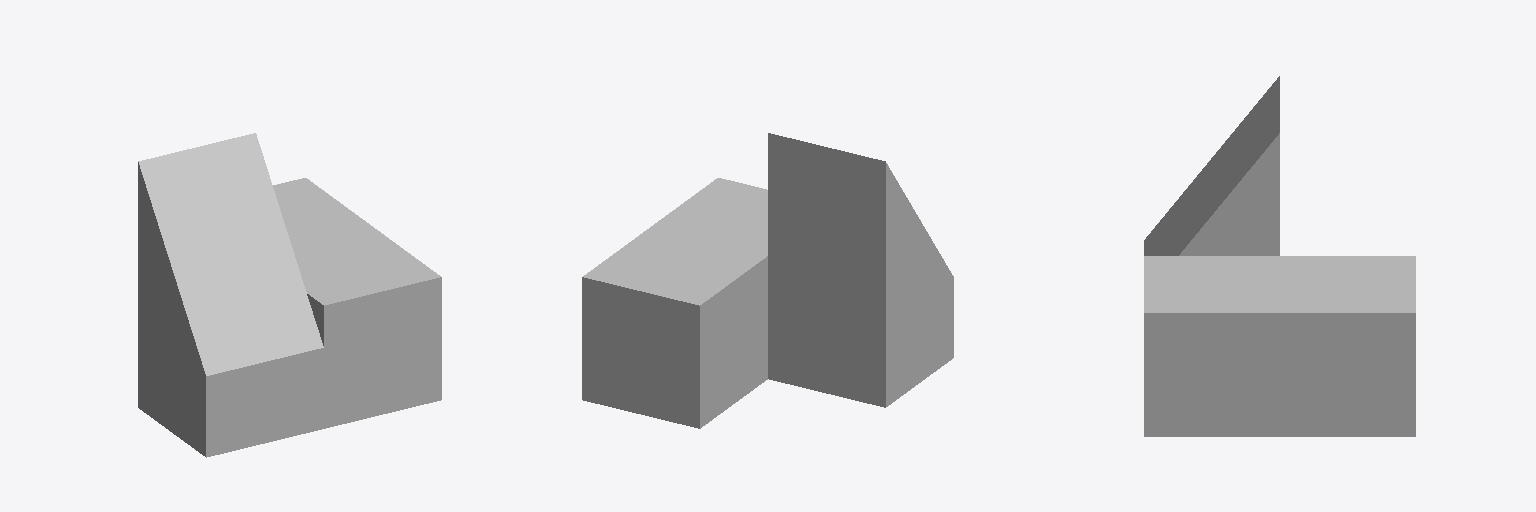
File: TechniqueCObject.obj
The picture shows the model from 3 angles: view 1: azimuth 30°, elevation 25°; view 2: azimuth 150°, elevation 25°; view 3: azimuth 270°, elevation 25°; orthographic projection.
Visible parts, largest first — view 1: TechniqueCObject; view 2: TechniqueCObject; view 3: TechniqueCObject.
Boxes of the visible parts, <box> form: TechniqueCObject: <box>138,133,441,457</box>; TechniqueCObject: <box>582,133,953,428</box>; TechniqueCObject: <box>1144,76,1415,436</box>.
Bounding box in the file's own units: 1 × 1 × 1.